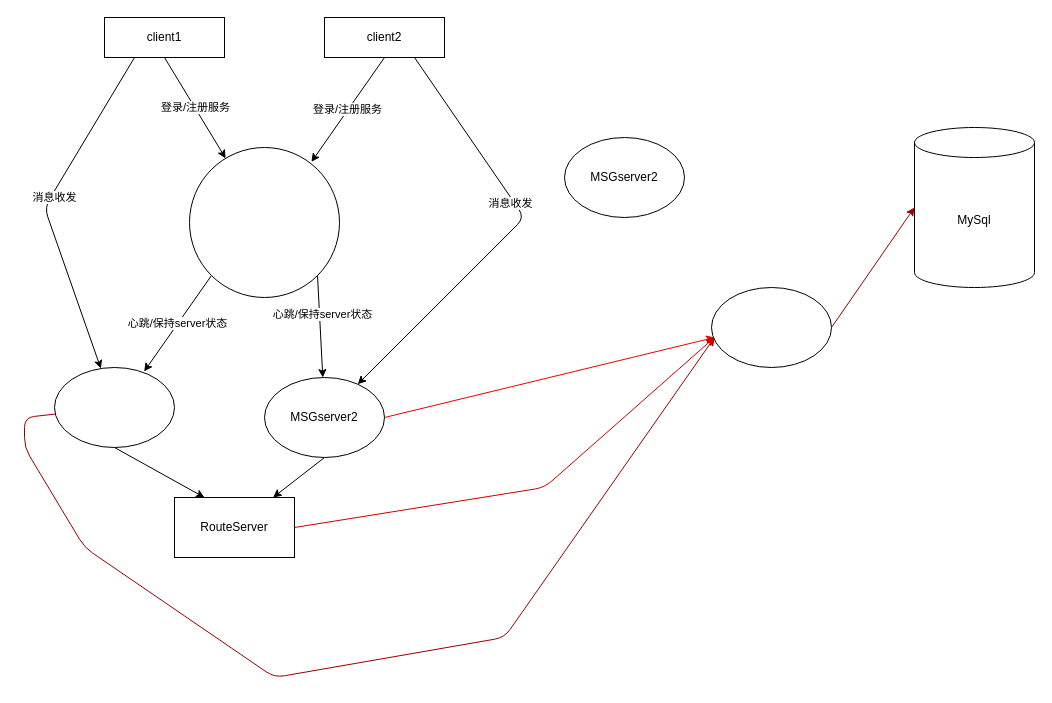
Image size: 1052x703. Some labels were removed from this diagram. Each missing label, with the box of its shape:
dataServer: (710, 286, 832, 368)
LoginServer: (188, 146, 340, 298)
MSGserver1: (54, 366, 174, 448)
